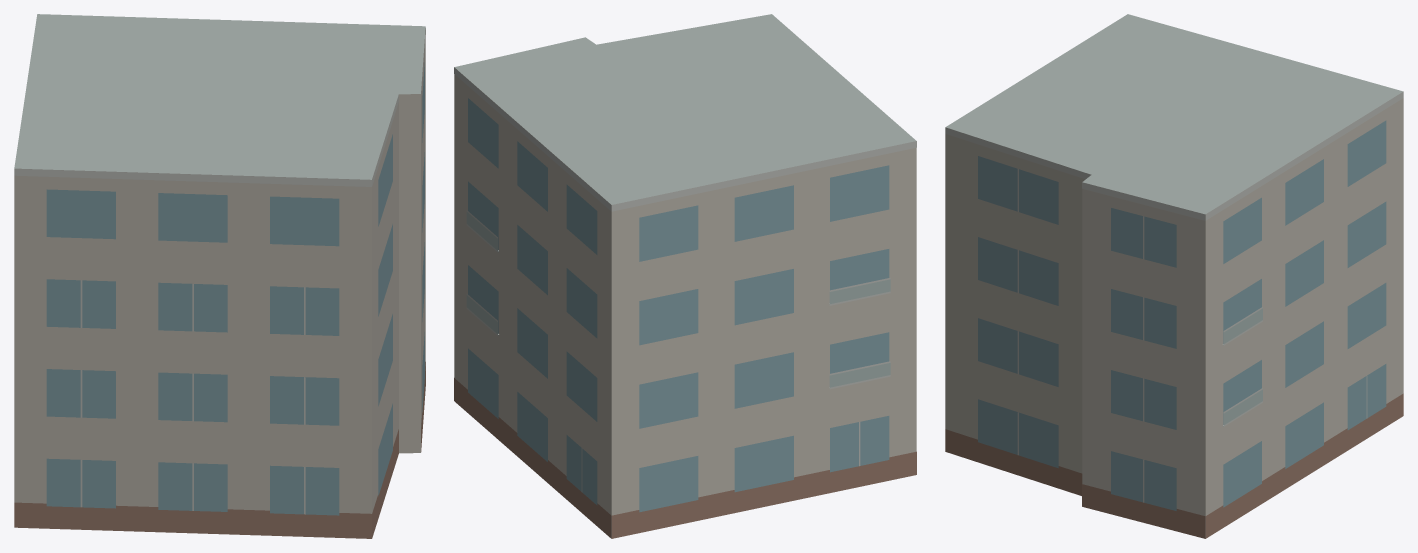
File: survey-upis-32624770.glb
3 views of the same model, side by side, from view 1: azimuth 30°, elevation 25°; view 2: azimuth 150°, elevation 25°; view 3: azimuth 270°, elevation 25° (orthographic). The views are drawn at different scales.
Parts seen in each view (by area): view 1: survey-upis-32624770.tmp; view 2: survey-upis-32624770.tmp; view 3: survey-upis-32624770.tmp.
Boxes of the visible parts, bbox=[...] form: survey-upis-32624770.tmp: bbox=[14, 14, 425, 538]; survey-upis-32624770.tmp: bbox=[454, 14, 916, 538]; survey-upis-32624770.tmp: bbox=[945, 14, 1403, 538].
Bounding box in the file's own units: 16.17 × 12.2 × 15.63.
